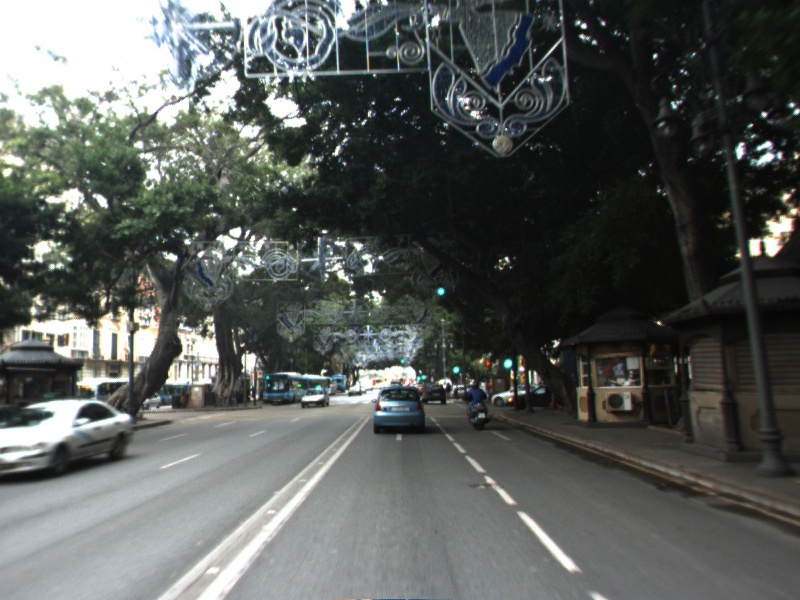STRAIGHT: (479, 427, 514, 442)
